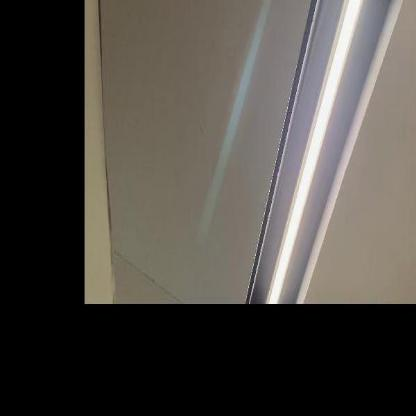light_on: (265, 0, 383, 304)
